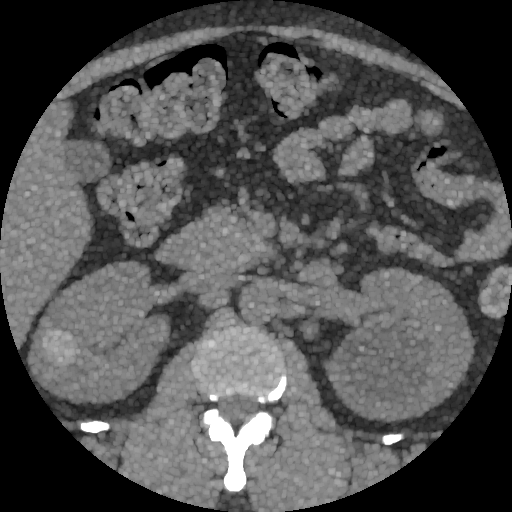Lesion: (38, 326, 79, 370)
